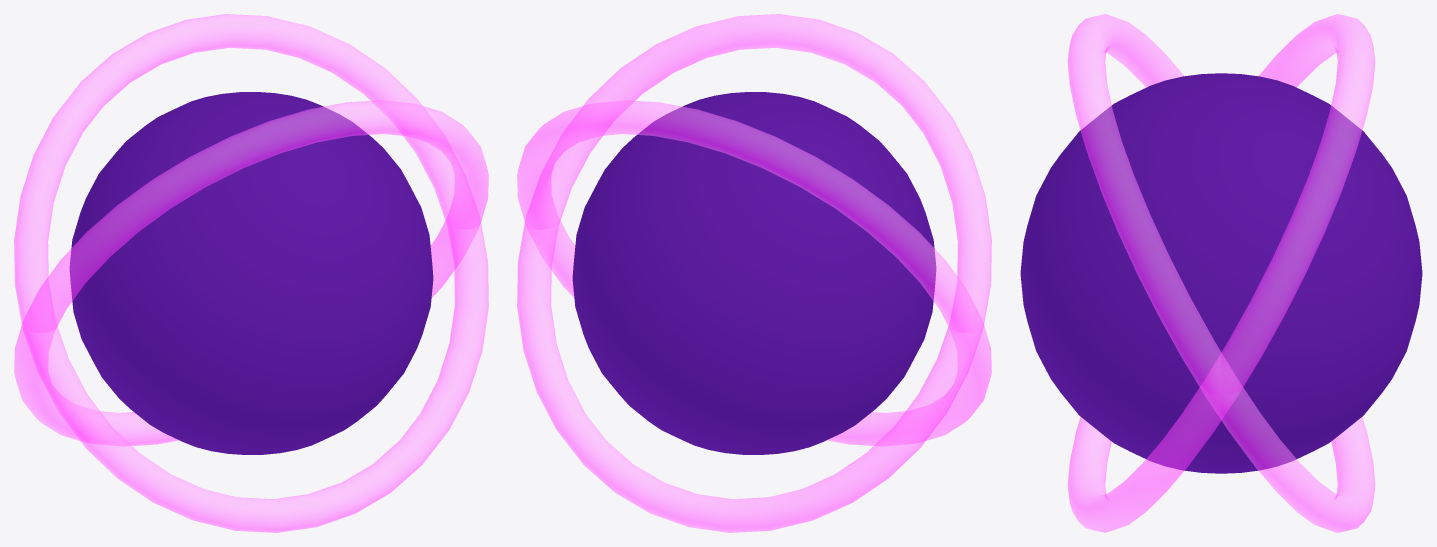
File: darkness_orb.glb
3 renders of one model, left to right at view 1: azimuth 30°, elevation 25°; view 2: azimuth 150°, elevation 25°; view 3: azimuth 270°, elevation 25°, orthographic. The views are drawn at different scales.
Visible parts, largest first — view 1: darkness_core_0, darkness_halo_1, darkness_halo_2; view 2: darkness_core_0, darkness_halo_2, darkness_halo_1; view 3: darkness_core_0, darkness_halo_1, darkness_halo_2.
Part boxes in pixels (left/top/right/bottom): darkness_core_0: left=69, top=92, right=433, bottom=454; darkness_halo_1: left=14, top=14, right=488, bottom=532; darkness_halo_2: left=14, top=100, right=488, bottom=446; darkness_core_0: left=572, top=92, right=936, bottom=454; darkness_halo_2: left=517, top=14, right=991, bottom=532; darkness_halo_1: left=517, top=100, right=991, bottom=446; darkness_core_0: left=1020, top=73, right=1422, bottom=473; darkness_halo_1: left=1067, top=14, right=1375, bottom=532; darkness_halo_2: left=1067, top=14, right=1375, bottom=532.
Bounding box in the file's own units: 0.23 × 0.2012 × 0.16.
